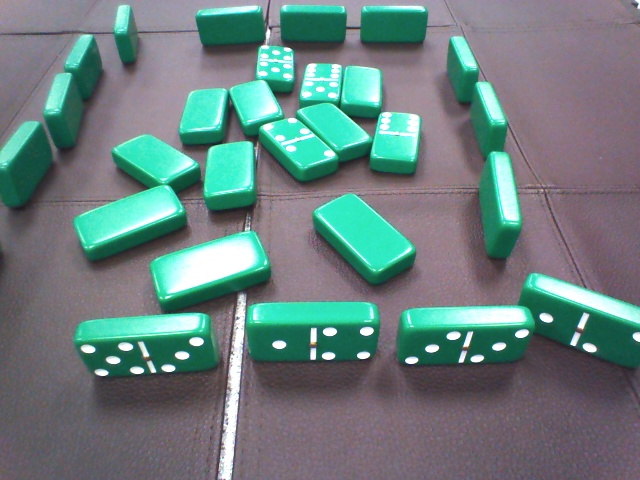A: (308, 192, 422, 292), (147, 234, 280, 306), (69, 190, 185, 256), (108, 131, 200, 190), (294, 99, 371, 164), (200, 140, 261, 210), (174, 82, 233, 145), (229, 74, 283, 138), (342, 62, 386, 117)
B: (250, 114, 344, 183), (369, 105, 425, 179), (292, 55, 344, 111), (250, 42, 299, 94)
C: (1, 114, 55, 216), (37, 69, 89, 145), (61, 30, 107, 92), (105, 5, 145, 66)
D: (467, 154, 526, 262), (461, 83, 521, 159), (435, 31, 483, 104)
E: (509, 262, 640, 371), (63, 309, 220, 390), (236, 293, 378, 373), (388, 299, 533, 374)
F: (191, 6, 271, 46), (359, 3, 430, 47), (278, 3, 348, 45)
